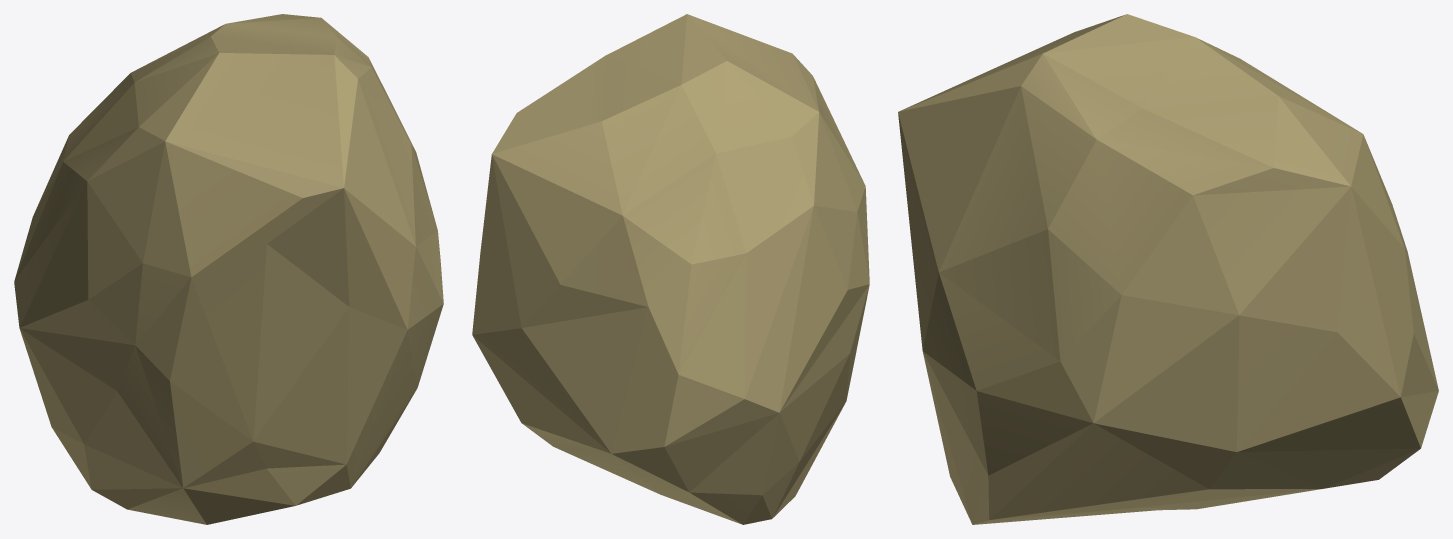
The model's file is SM_small_rock_22.fbx.
3 renders of one model, left to right at view 1: azimuth 30°, elevation 25°; view 2: azimuth 150°, elevation 25°; view 3: azimuth 270°, elevation 25°, orthographic. The views are drawn at different scales.
Parts seen in each view (by area): view 1: small_rock_22; view 2: small_rock_22; view 3: small_rock_22.
Boxes of the visible parts, x1,y1,x2,y2 form: small_rock_22: [14, 14, 443, 524]; small_rock_22: [472, 14, 869, 524]; small_rock_22: [898, 14, 1438, 524].
Bounding box in the file's own units: 58.7 × 74.63 × 69.4.
